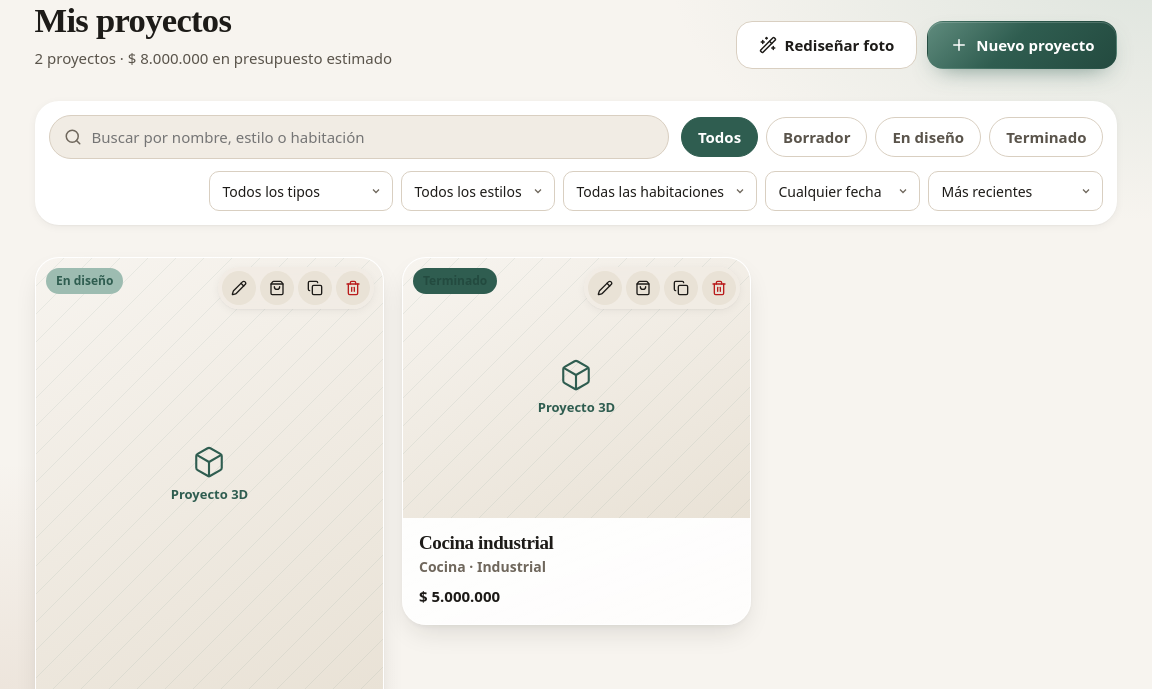
Scenario: Projects page › duplicates a project and reloads the list
Click the button named "Duplicar Sala nórdica": (314, 288) [298,271,332,305]
(page scrolled)
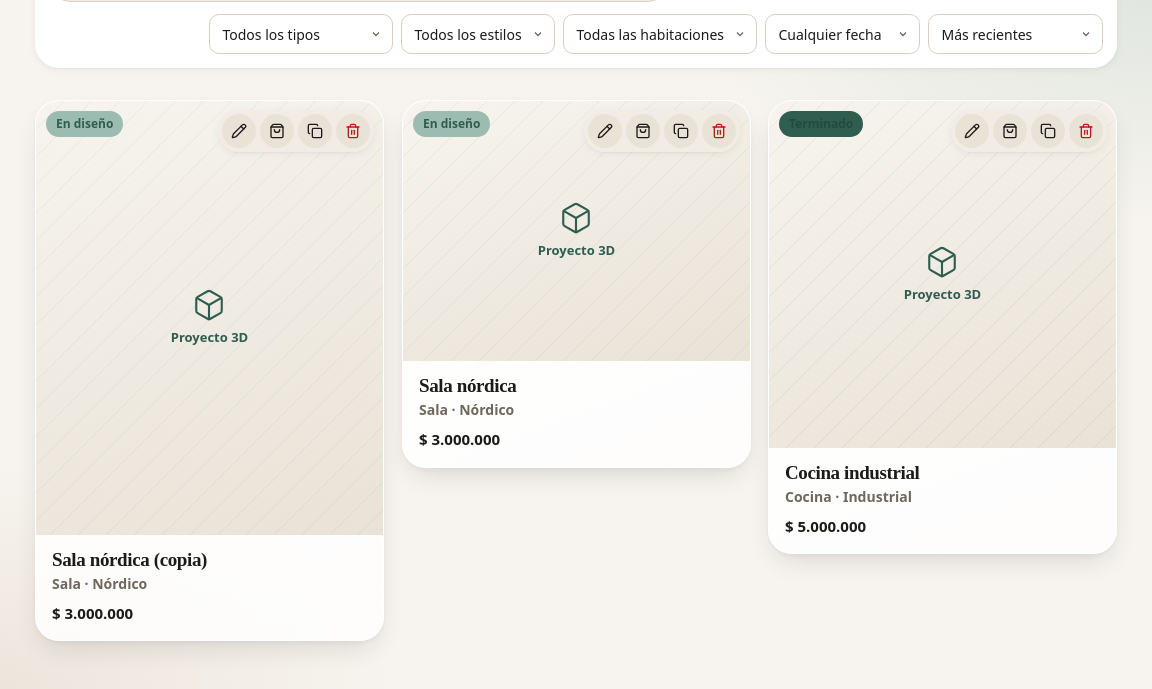
Result: the heading "Sala nórdica (copia)" is shown at [52,549,206,570]
